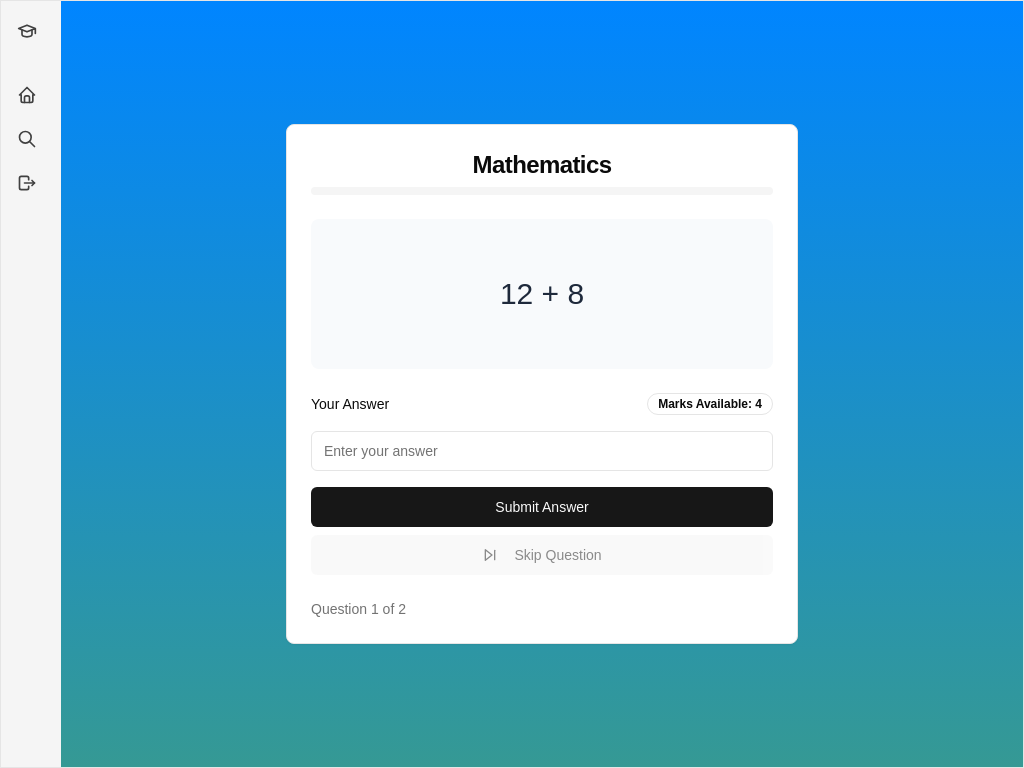
Scenario: Quiz Page › submits the correct answer and loads next question
Expected: the heading "12 + 8" is shown, top-left (500, 276), bottom-right (584, 312)
// Type the correct answer.
Type "20" into the field with placeholder "Enter your answer" at (542, 451), box top-left (311, 431), bottom-right (773, 471)
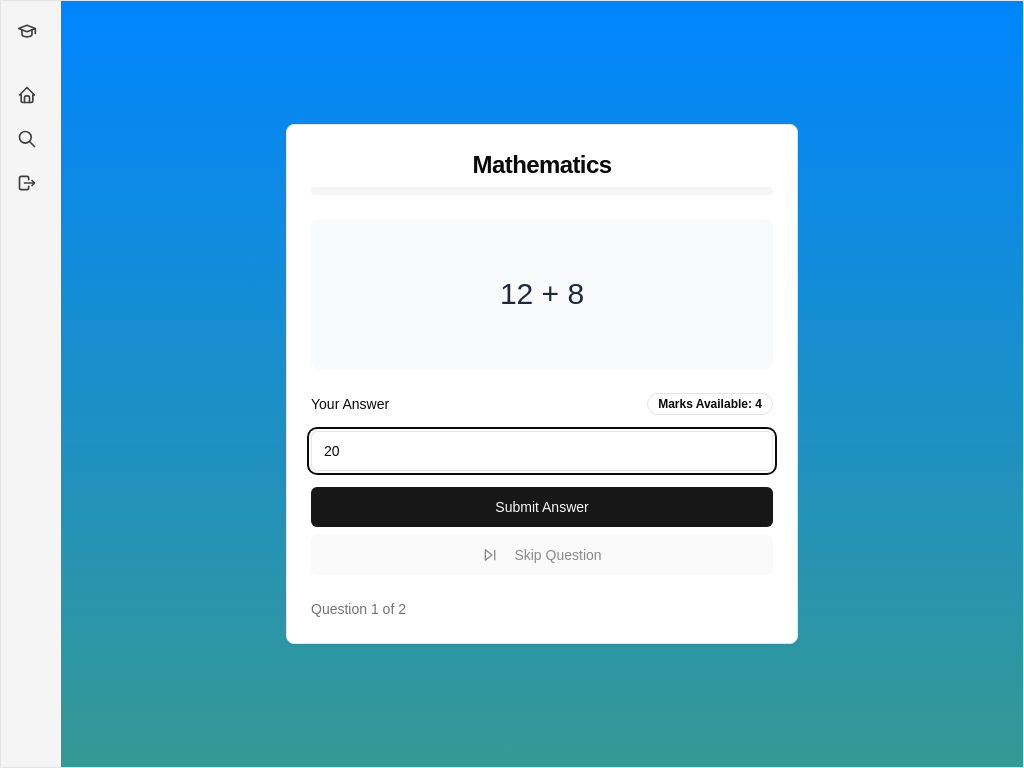
// Submit the answer.
Click the button "Submit Answer" at (542, 507), box top-left (311, 487), bottom-right (773, 527)
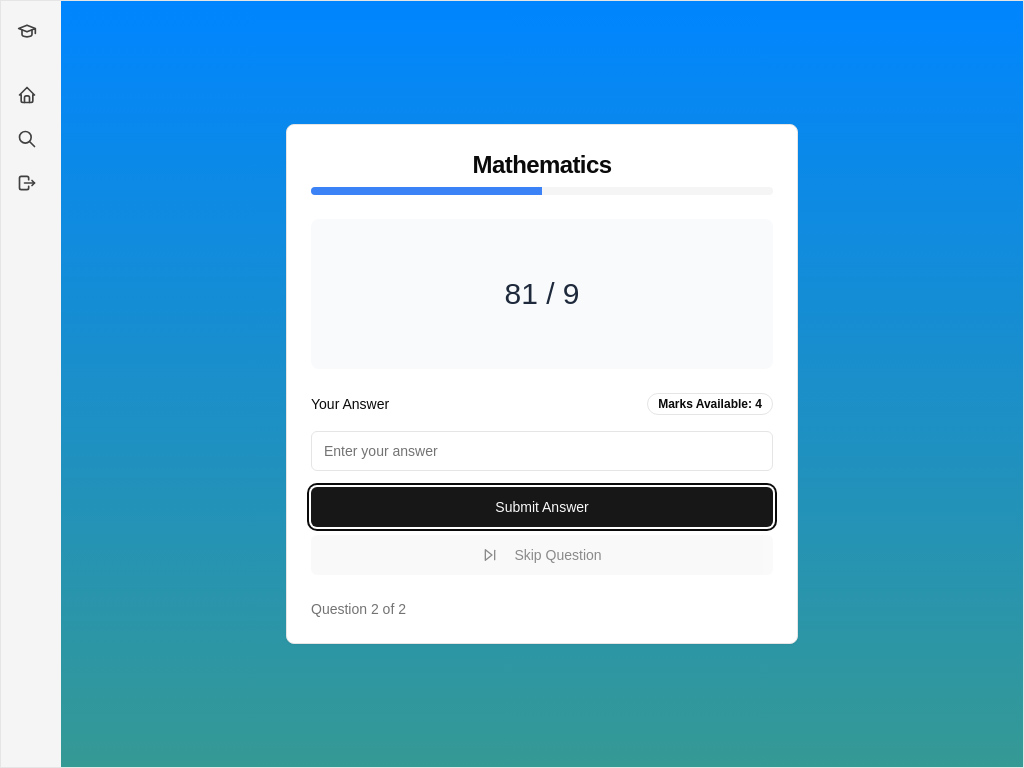
Expected: the text "Correct!" is shown, top-left (647, 393), bottom-right (773, 415)
Result: the heading "81 / 9" is shown at top-left (504, 276), bottom-right (580, 312)
